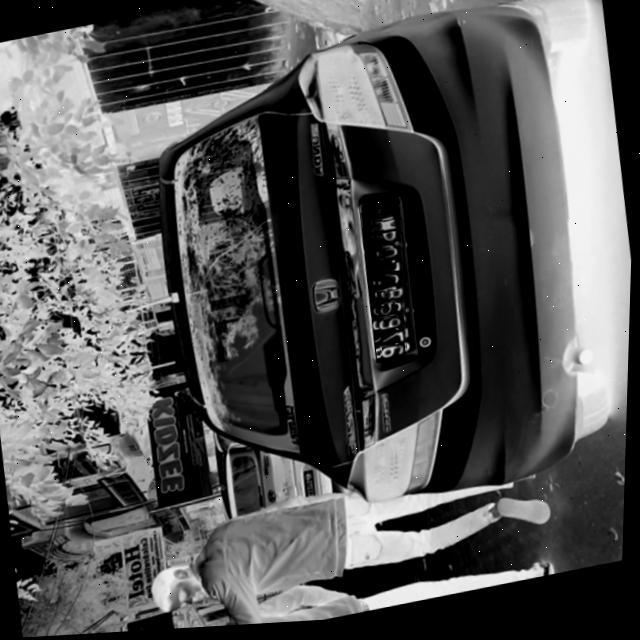0: (374, 250, 400, 267)
6: (381, 319, 409, 334), (380, 306, 405, 321)
7: (382, 332, 408, 350), (375, 264, 403, 279)
9: (385, 347, 410, 363)
B: (378, 291, 406, 308)
C: (376, 277, 404, 295)
IND: (367, 209, 387, 224)
Indian_registered: (362, 201, 412, 366)
M: (370, 221, 400, 240)
P: (372, 235, 401, 252)
